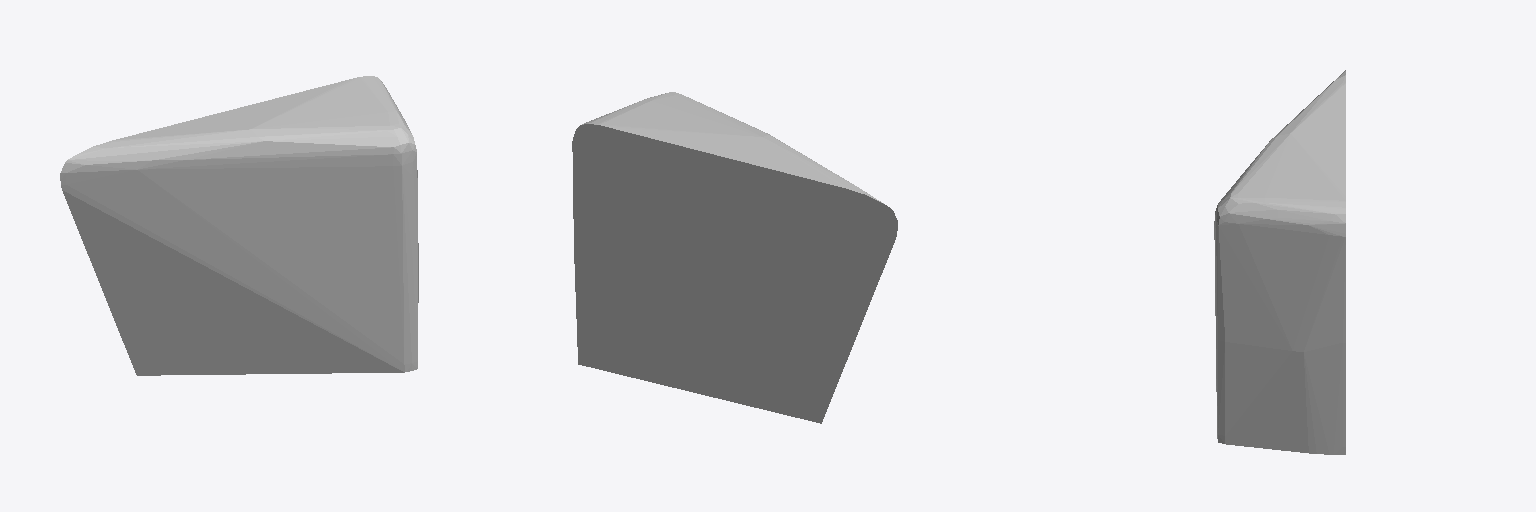
The model's file is box_long_brown_M_collision_9.obj.
3 views of the same model, side by side, from view 1: azimuth 30°, elevation 25°; view 2: azimuth 150°, elevation 25°; view 3: azimuth 270°, elevation 25° (orthographic).
Size of the model in its own units: 0.0374 by 0.027 by 0.0131.